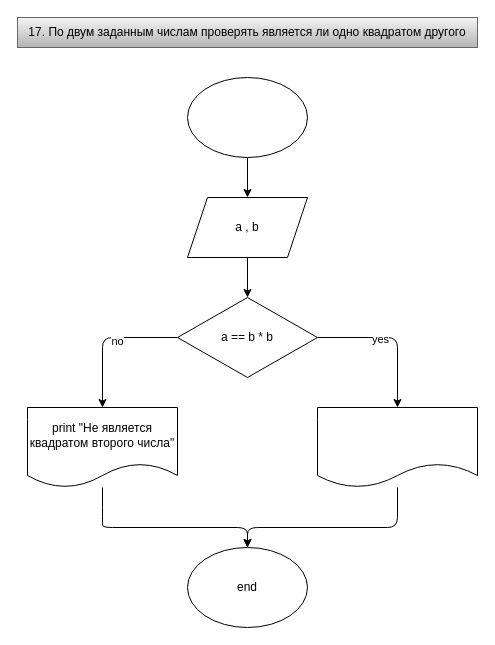
Some shapes in this 495 by 645 pixel diagram are drawn without their labels. The shapes that lost their labels are listed below. From the top down, each one's box as (x1, y1, x2, y2) in pixels, then its label:
(186, 76, 308, 158): start
(316, 406, 478, 488): print "Является квадротом второго числа"
